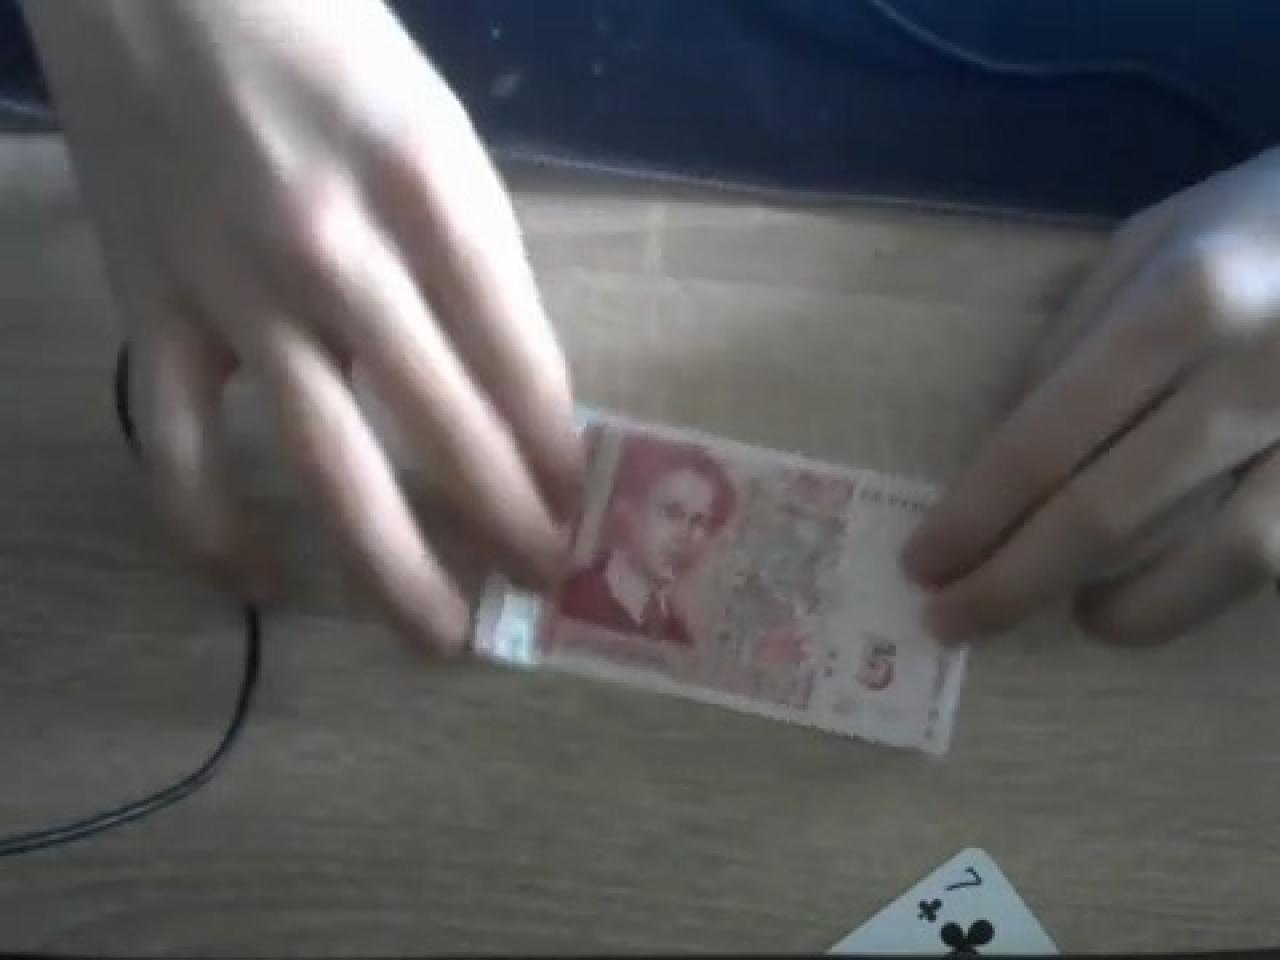5leva: (541, 413, 974, 760)
